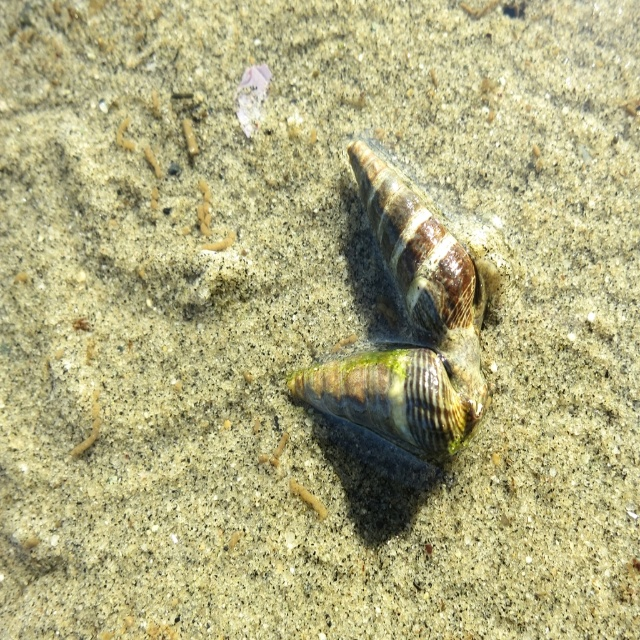Snail: (348, 143, 483, 355), (282, 345, 468, 461)
